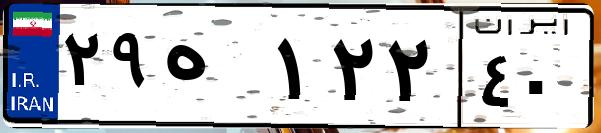0: (525, 38, 570, 115)
1: (270, 28, 330, 110)
2: (385, 28, 445, 110), (330, 28, 385, 110), (57, 26, 110, 100)
4: (475, 38, 525, 113)
9: (110, 28, 158, 98)
ه: (158, 20, 270, 120)
